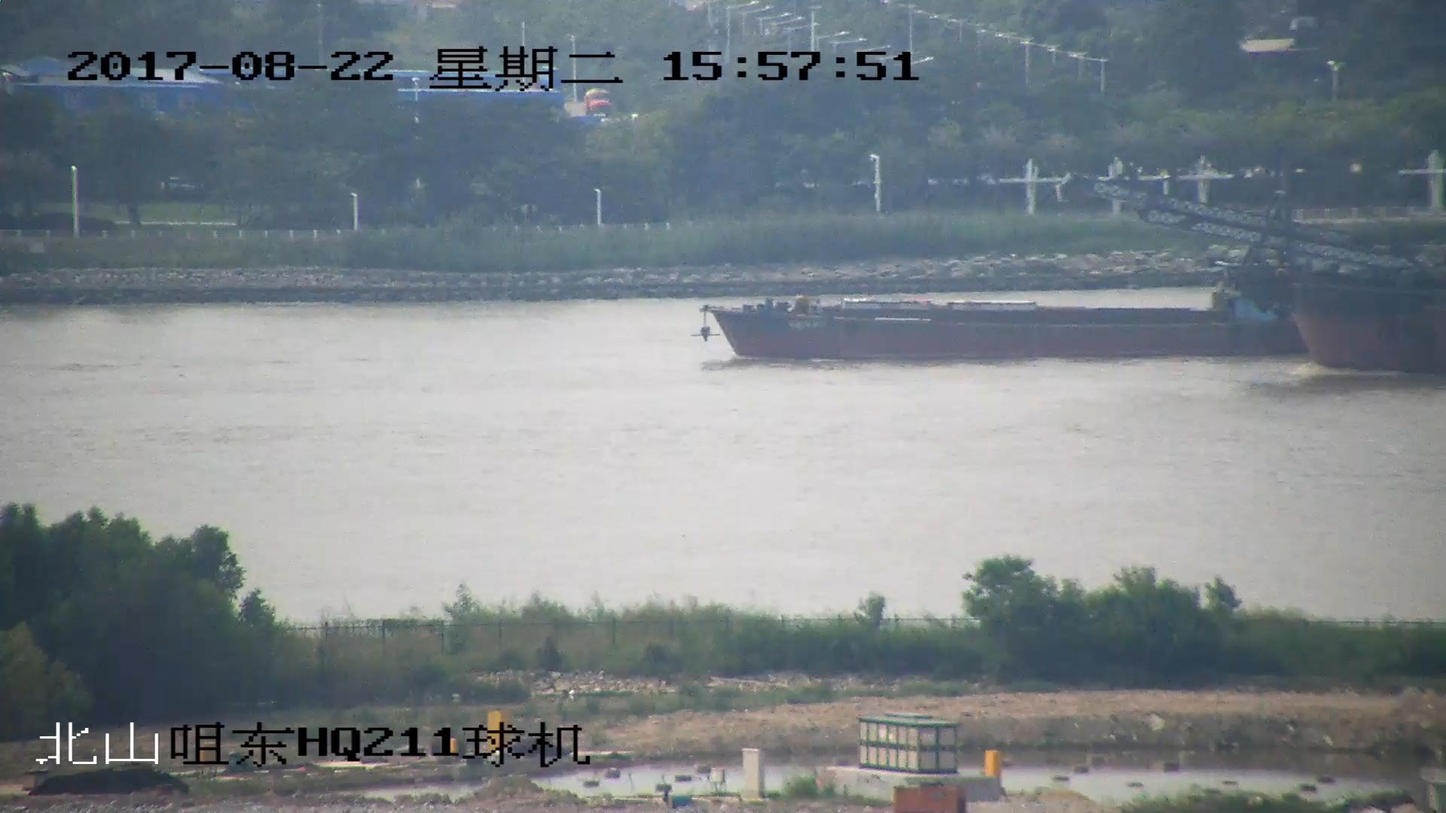bulk cargo carrier: (1068, 175, 1445, 379), (699, 274, 1327, 361)
